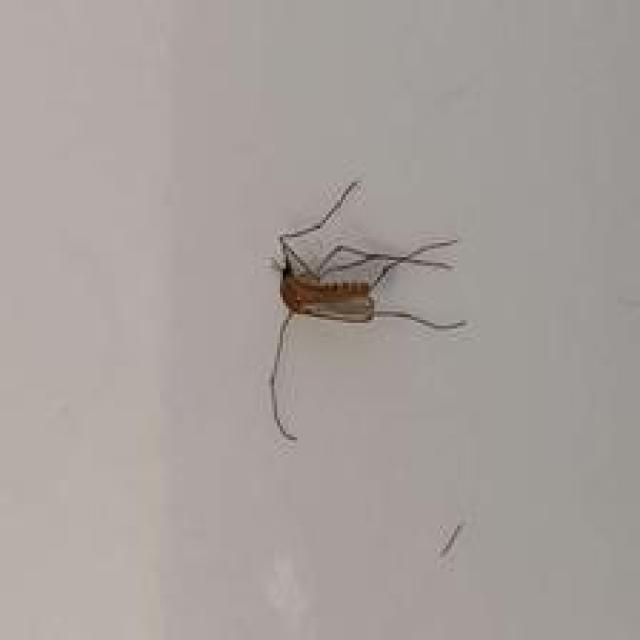Culex: (264, 178, 467, 442)
